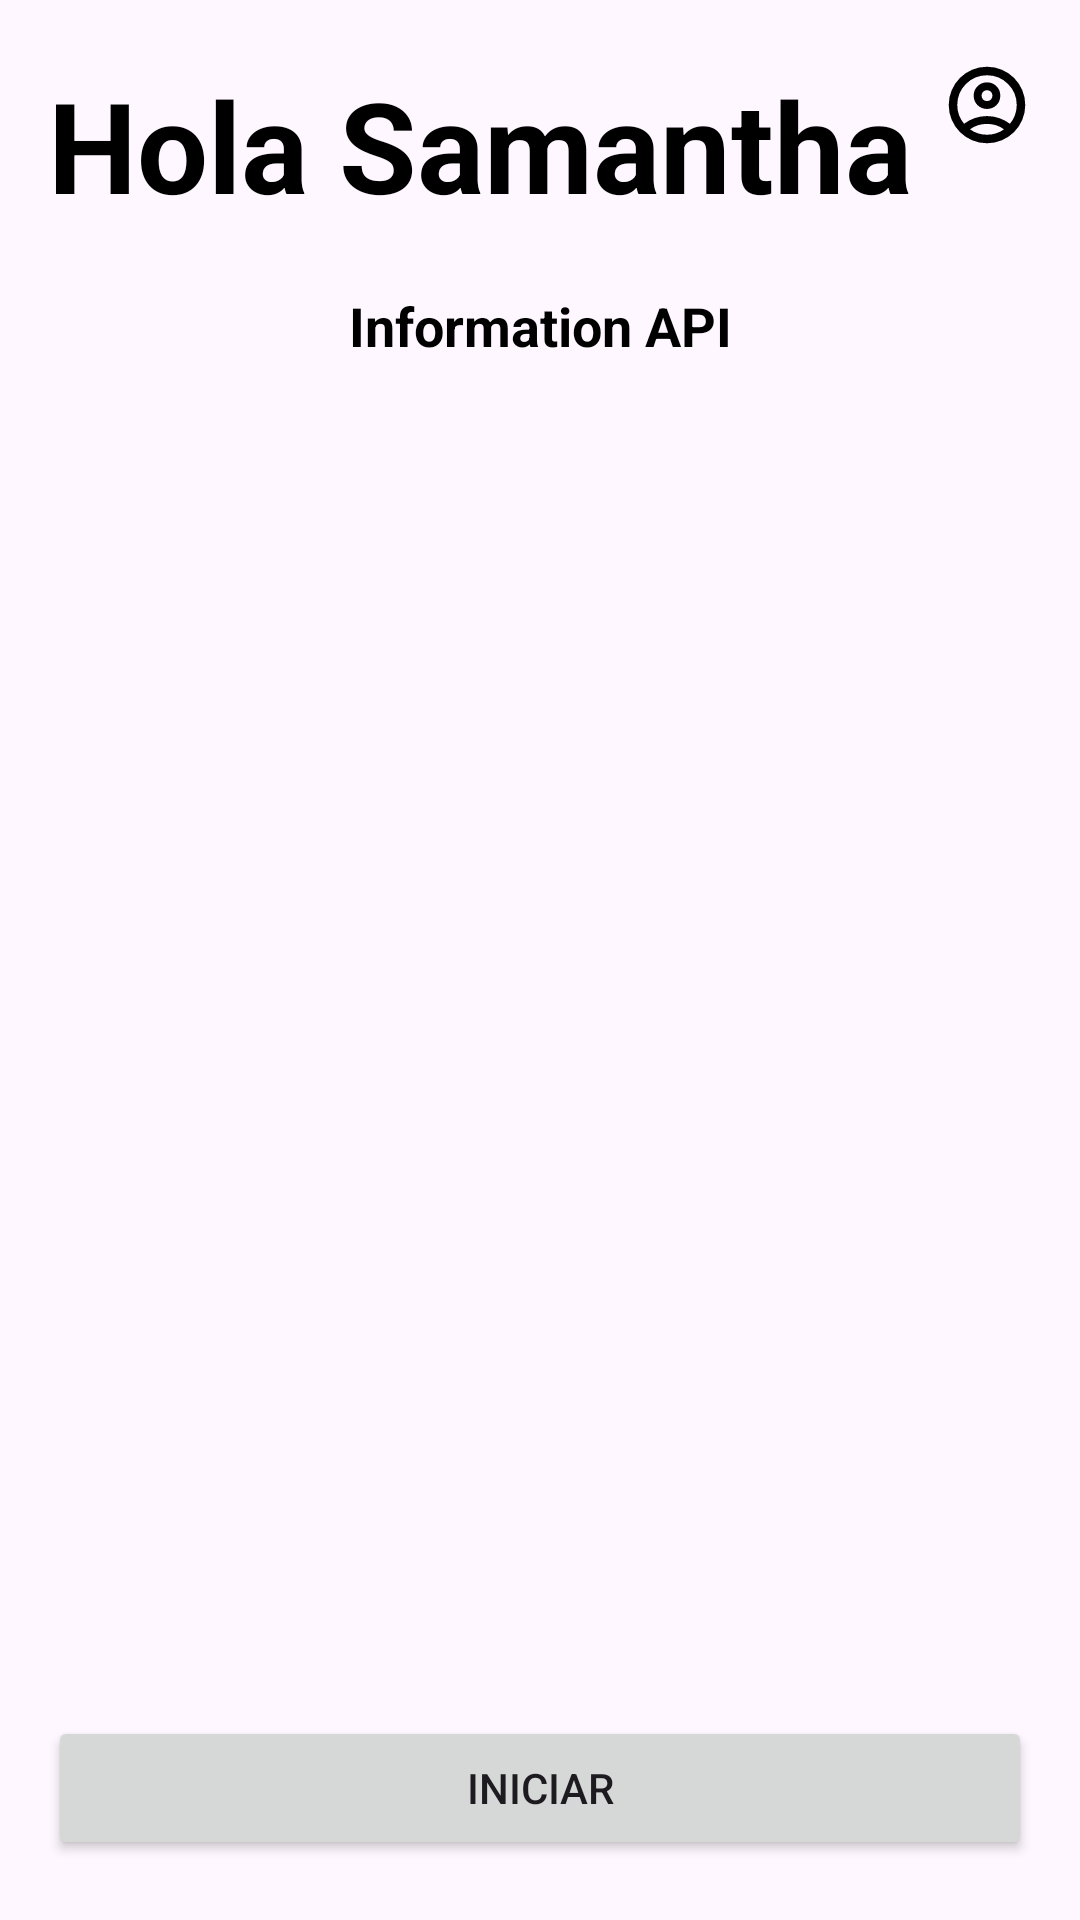

Icons on this 1080 x 1920 Android screen, each with the point to tap as (x,y):
profile: (987,105)
